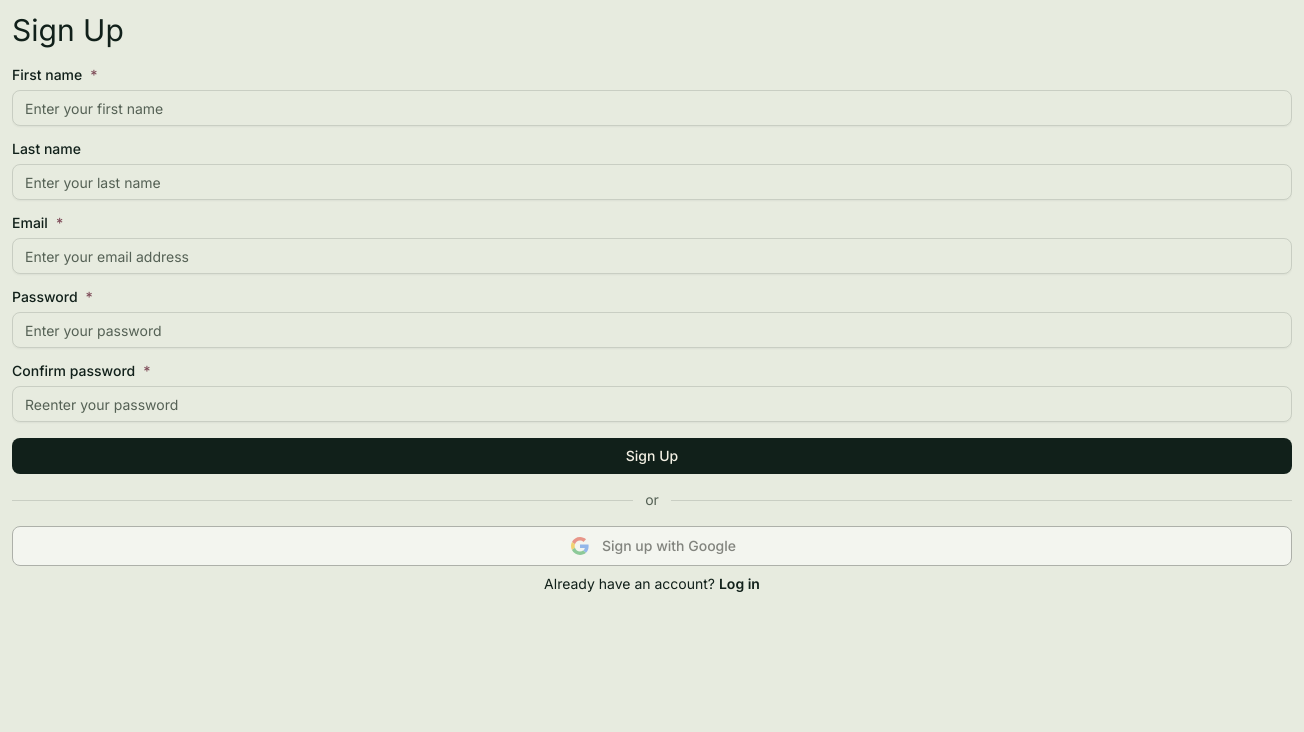
Scenario: SignupForm › validation › shows error when email format is invalid
The width and height of the screenshot is (1304, 732).
In the field labelled "First name *": x=652, y=108 [12,90,1292,126], type "Galadriel"
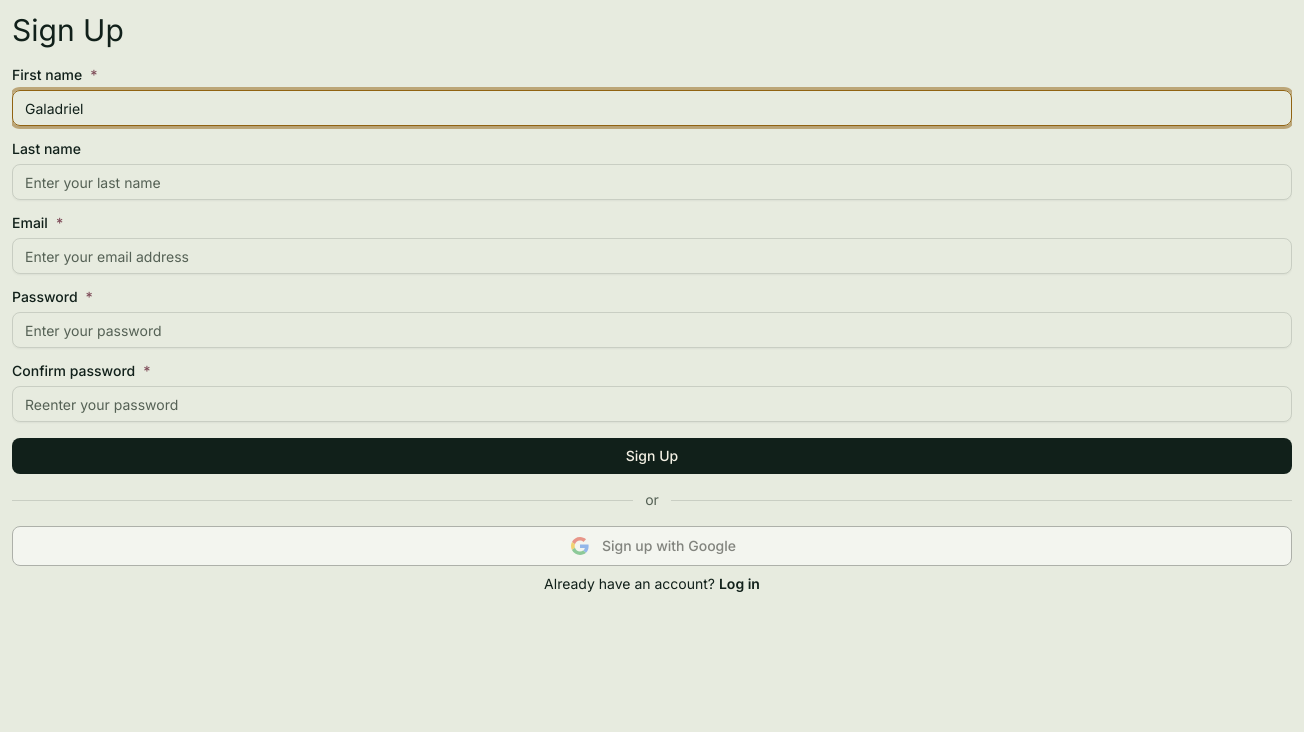
In the field labelled "Email *": x=652, y=256 [12,238,1292,274], type "galadriel"
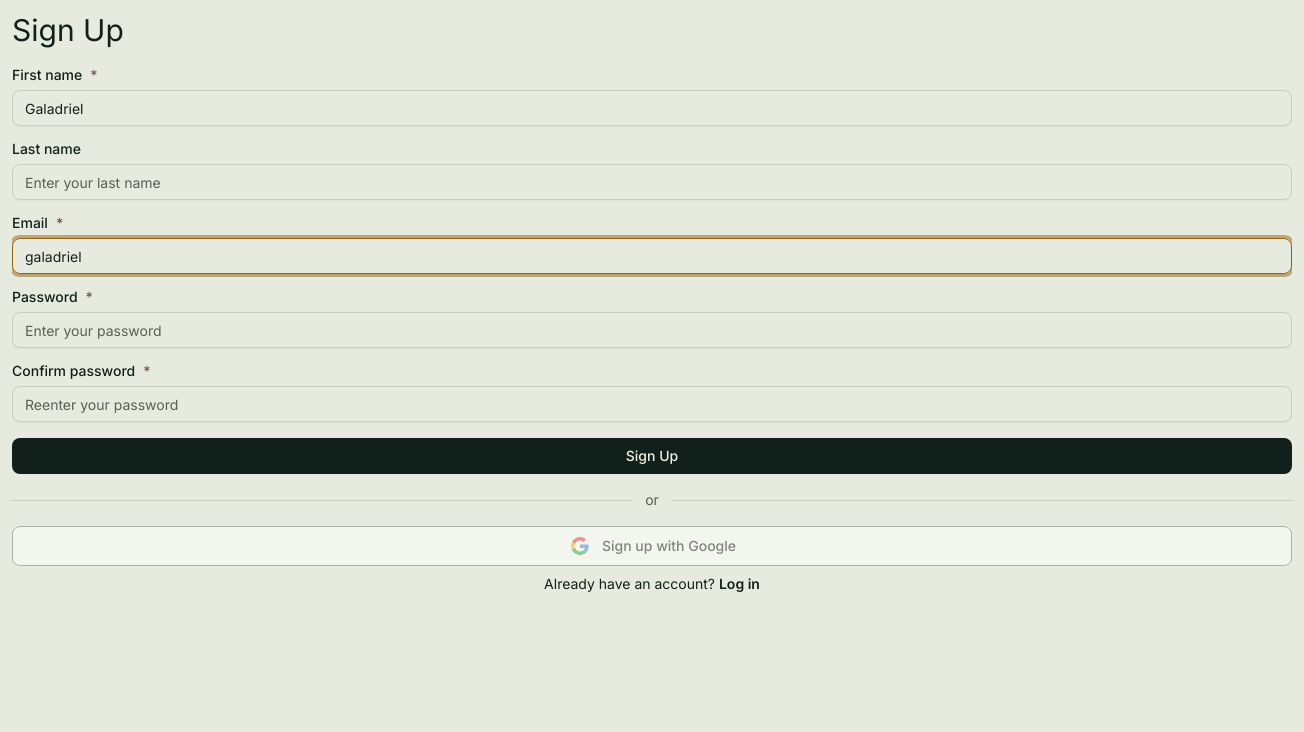
In the password field labelled "Password *": x=652, y=330 [12,312,1292,348], type "huntsauron123"
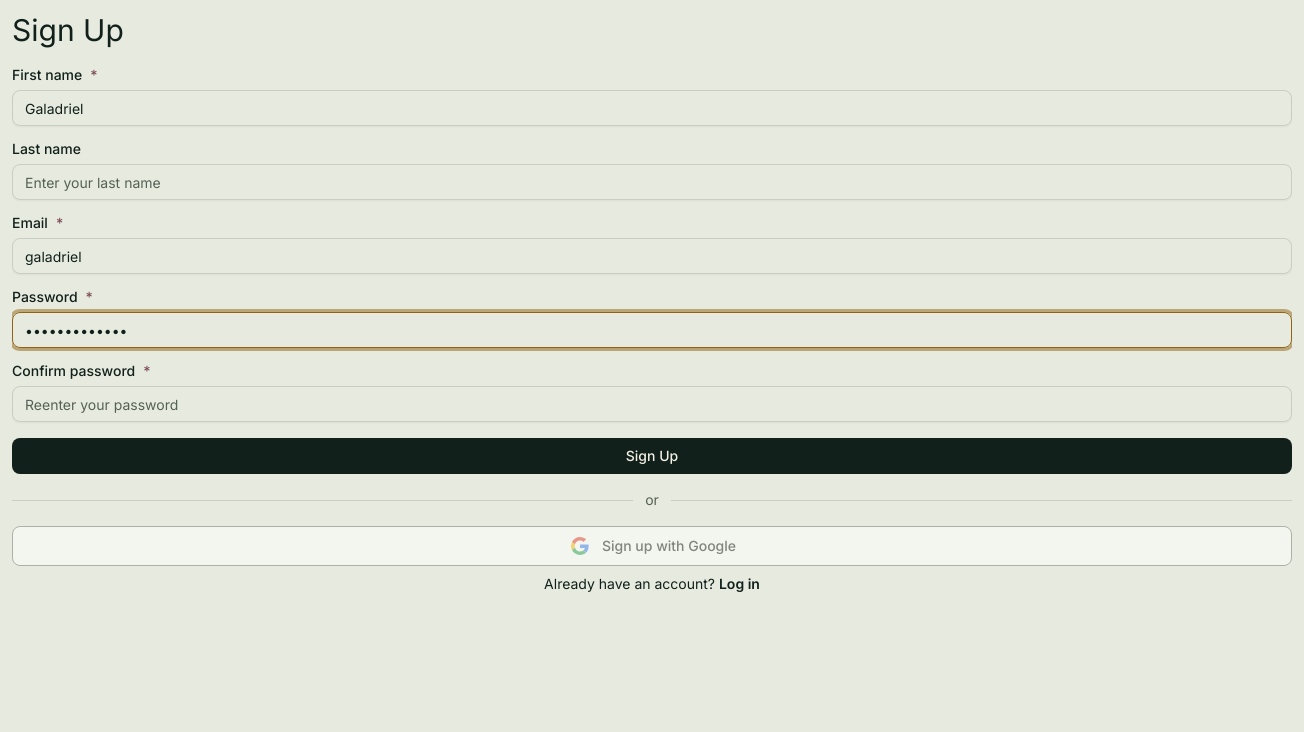
In the password field labelled "Confirm password *": x=652, y=404 [12,386,1292,422], type "huntsauron123"
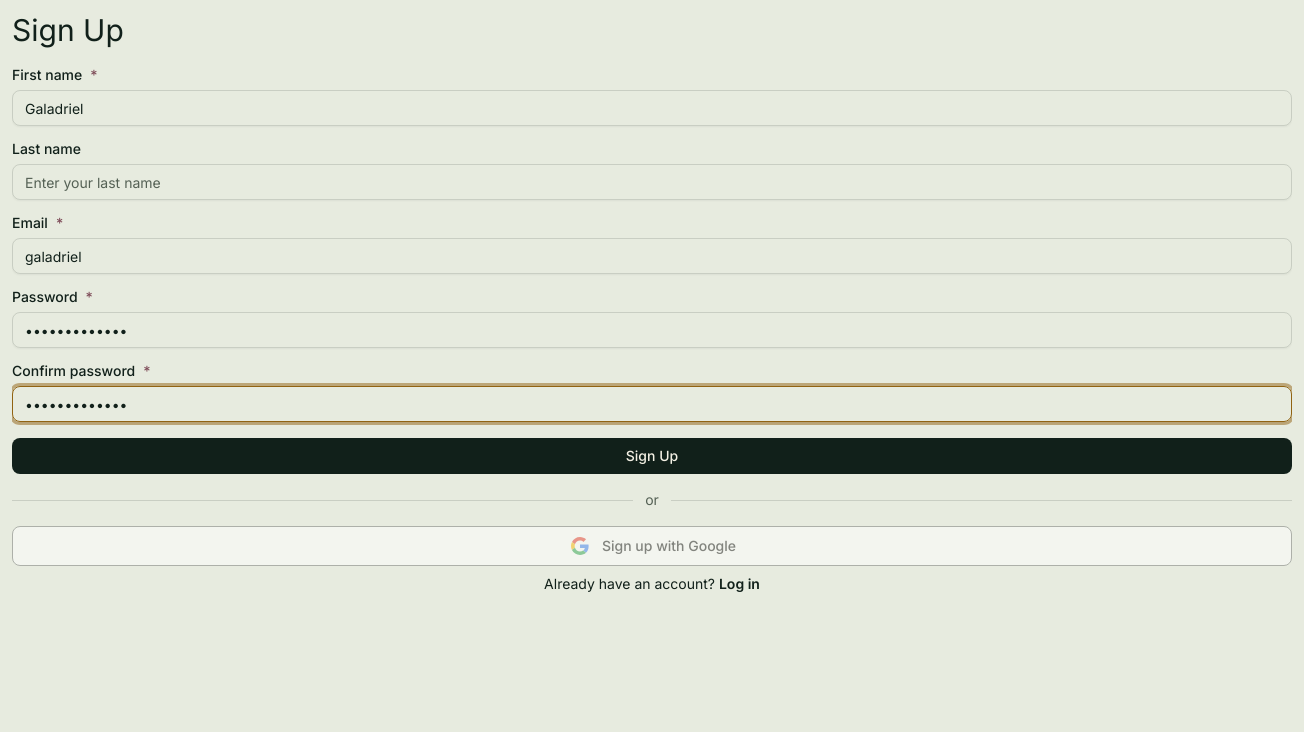
Click the button "Sign Up": x=652, y=456 [12,438,1292,474]
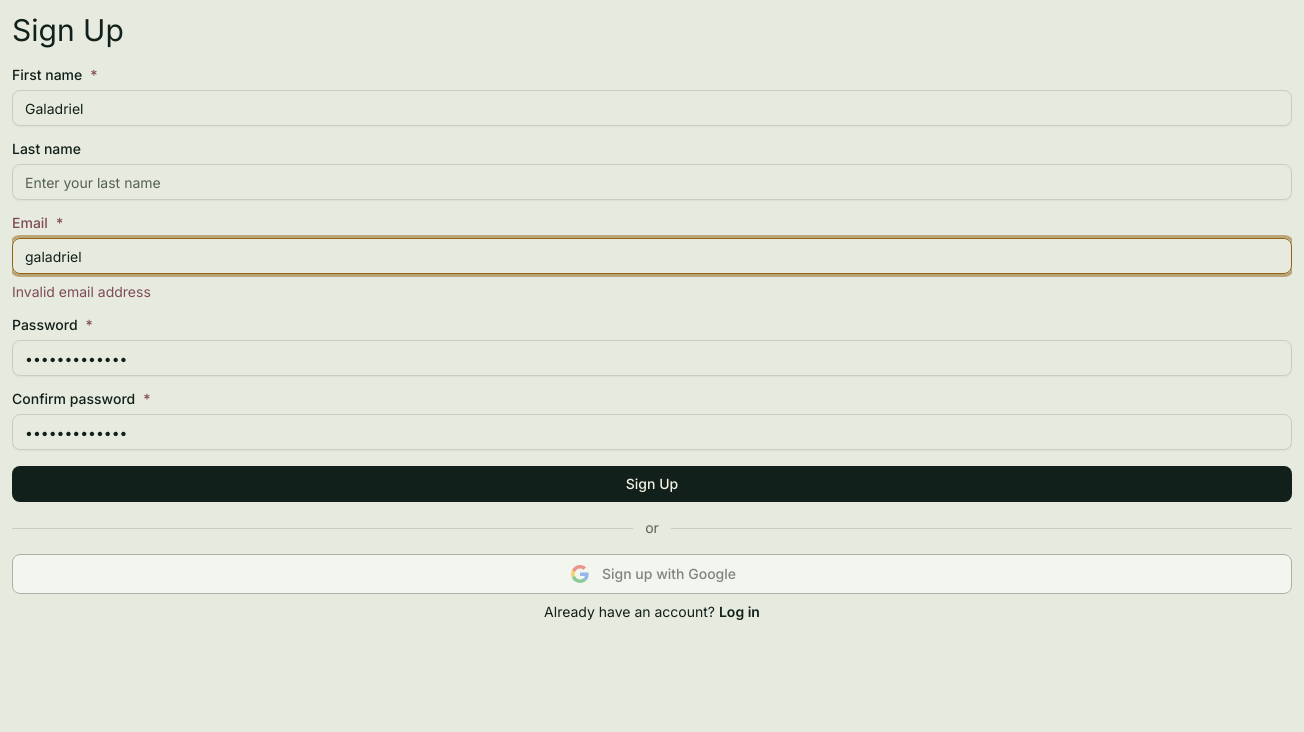
Check: the text "Invalid email address" is shown, box [12,283,151,300]
